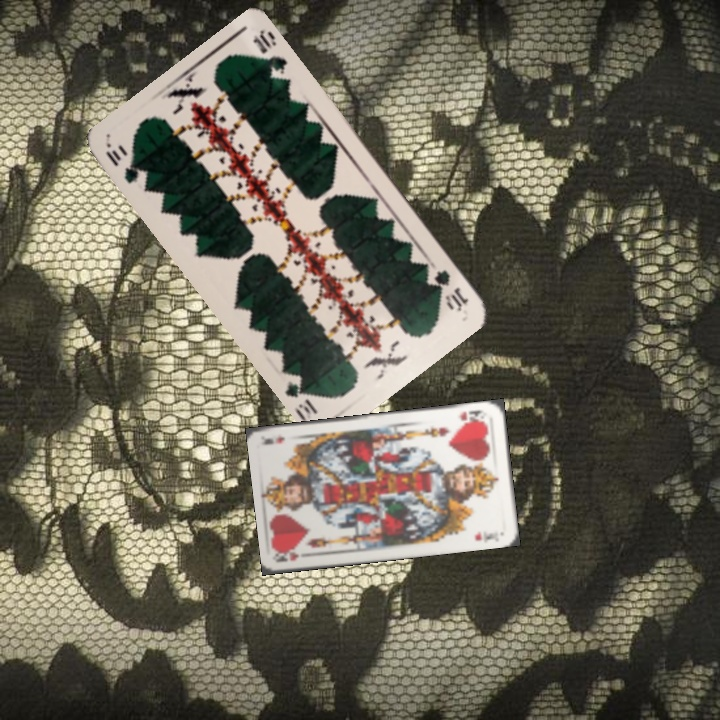G10: (430, 265, 471, 315), (101, 141, 144, 186)
HK: (274, 547, 316, 565), (455, 405, 489, 426)
